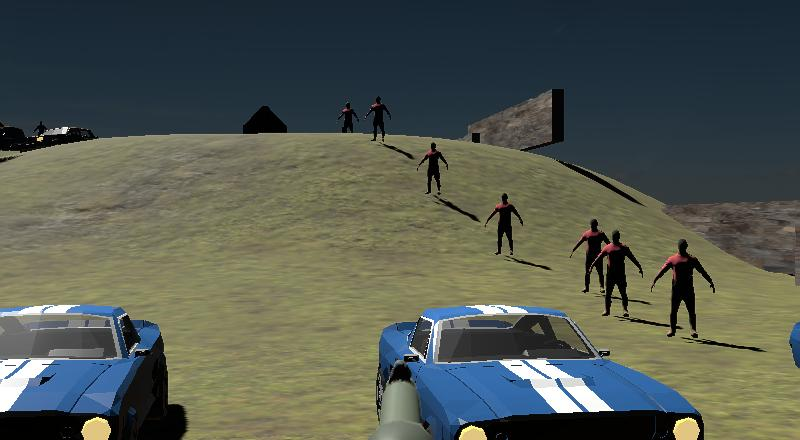House: (239, 104, 292, 145)
Human: (569, 216, 726, 340), (334, 89, 400, 148), (483, 187, 528, 260), (415, 135, 455, 202)
car: (342, 297, 716, 440), (2, 252, 212, 439), (0, 102, 109, 169)
